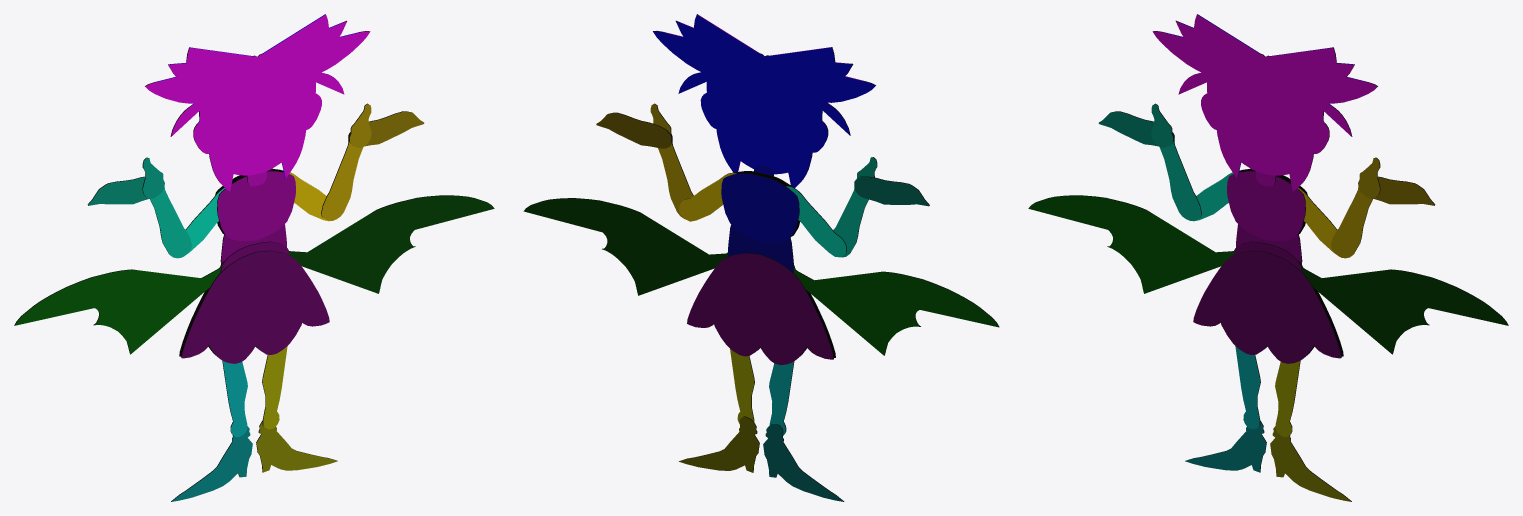
File: Cecelia.fbx
The picture shows the model from 3 angles, left to right: view 1: azimuth 30°, elevation 25°; view 2: azimuth 150°, elevation 25°; view 3: azimuth 330°, elevation 25°; orthographic projection.
Visible parts, largest first — view 1: polySurface164; view 2: polySurface164; view 3: polySurface164.
Boxes of the visible parts, x1,y1,x2,y2 form: polySurface164: (14, 14, 494, 501); polySurface164: (523, 14, 999, 501); polySurface164: (1028, 14, 1508, 501).
Size of the model in its own units: 14.76 by 13.33 by 0.2475.
